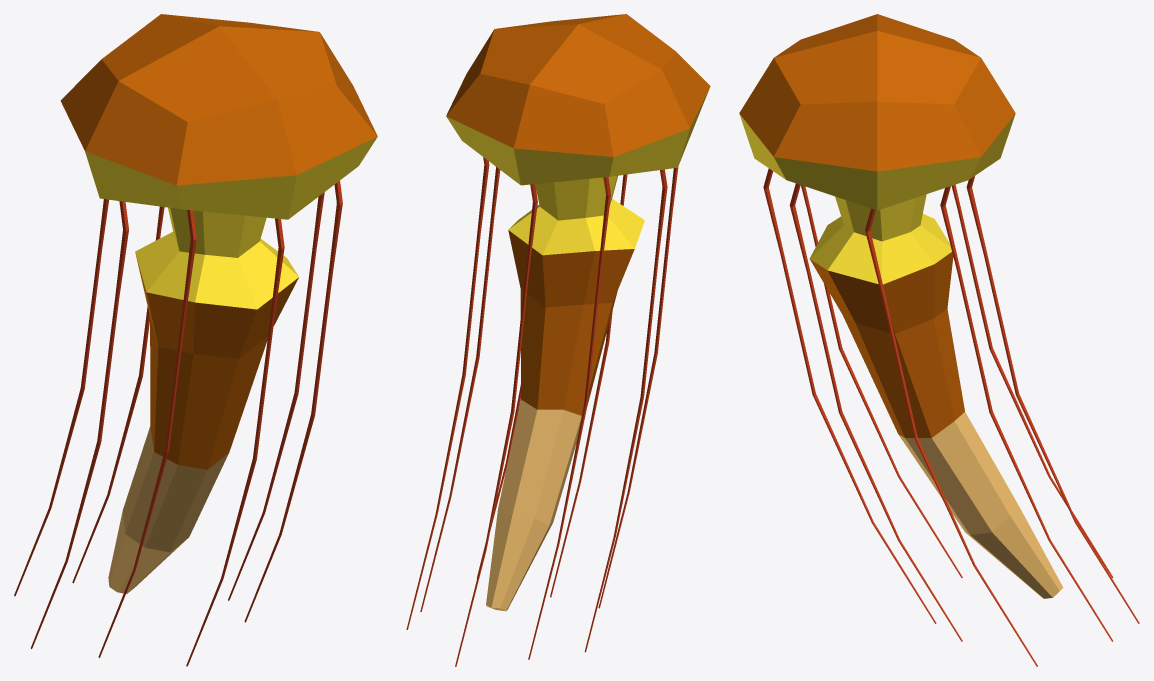
File: Mesh_Jellyfish.obj
3 renders of one model, left to right at view 1: azimuth 30°, elevation 25°; view 2: azimuth 150°, elevation 25°; view 3: azimuth 270°, elevation 25°, orthographic. The views are drawn at different scales.
Parts seen in each view (by area): view 1: Geo_Jellyfish; view 2: Geo_Jellyfish; view 3: Geo_Jellyfish.
Boxes of the visible parts, bbox=[...] form: Geo_Jellyfish: bbox=[14, 14, 377, 666]; Geo_Jellyfish: bbox=[406, 14, 710, 666]; Geo_Jellyfish: bbox=[739, 14, 1139, 666].
Size of the model in its own units: 57.48 by 136 by 83.27.
Materials: 1 (1 with a texture image).
